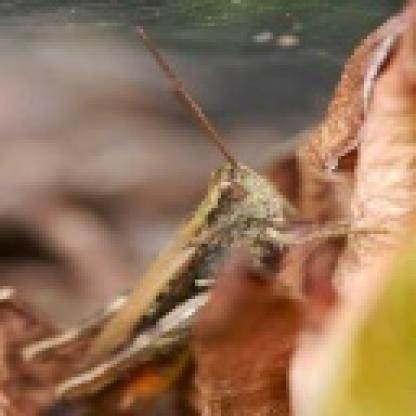grasshopper: (0, 82, 373, 411)
